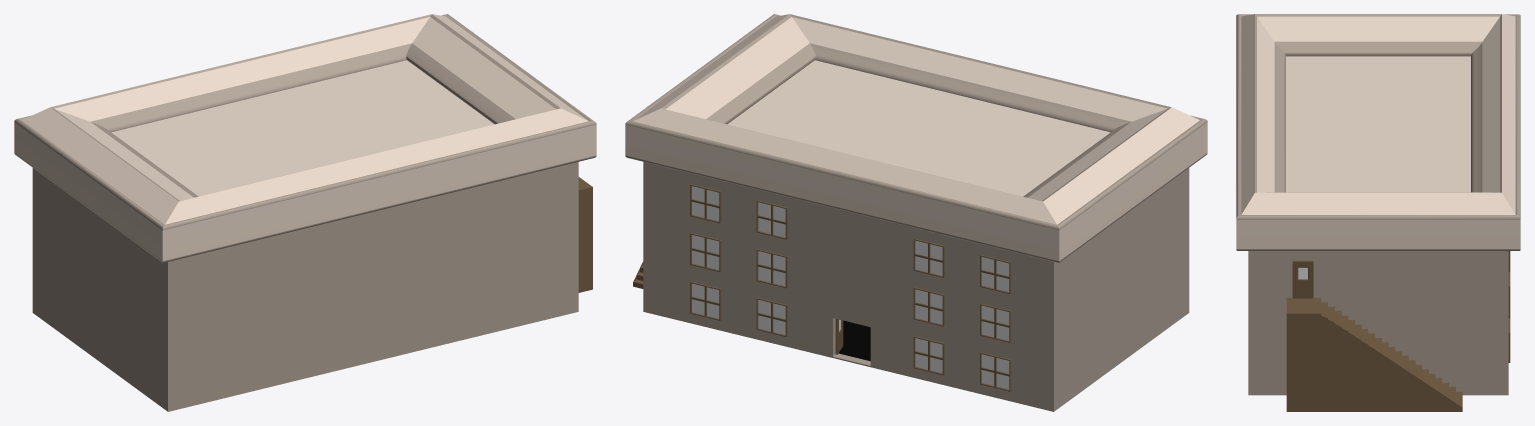
File: TownHall_Finalized.fbx
The picture shows the model from 3 angles, left to right: view 1: azimuth 30°, elevation 25°; view 2: azimuth 150°, elevation 25°; view 3: azimuth 270°, elevation 25°; orthographic projection. The views are drawn at different scales.
Visible parts, largest first — view 1: polySurface145; view 2: polySurface145; view 3: polySurface145.
Boxes of the visible parts, <box> form: polySurface145: <box>14,14,596,411</box>; polySurface145: <box>625,14,1207,411</box>; polySurface145: <box>1236,14,1520,411</box>.
Size of the model in its own units: 58.84 by 25.26 by 33.13.
